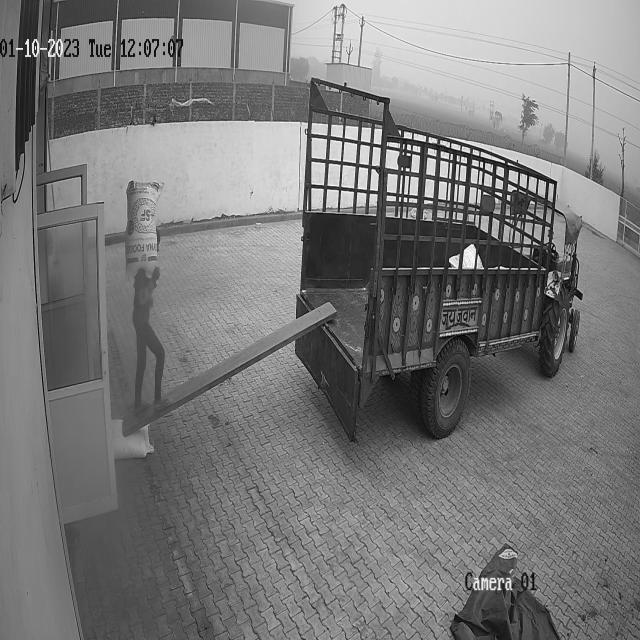sack: (125, 180, 163, 274), (110, 418, 154, 460)
